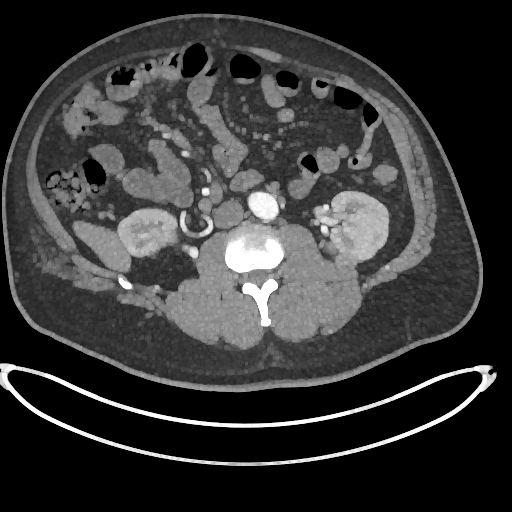Lesion: (332, 247, 357, 276)
